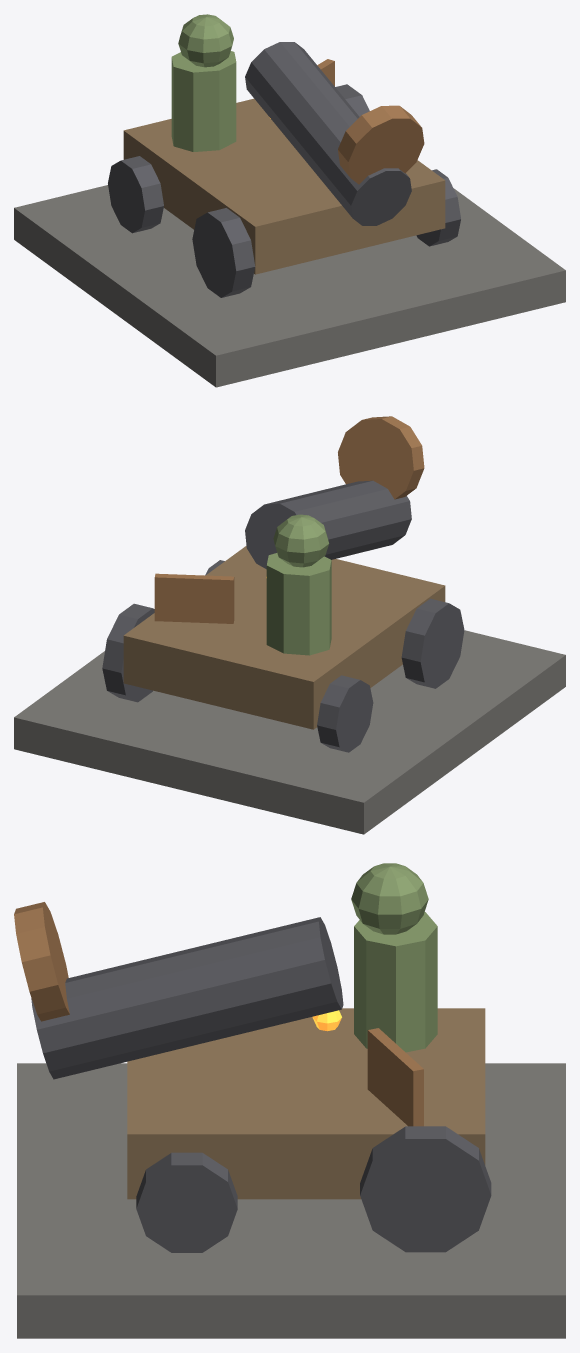
File: orc_junk_cannon.glb
3 renders of one model, top to bottom at view 1: azimuth 30°, elevation 25°; view 2: azimuth 150°, elevation 25°; view 3: azimuth 270°, elevation 25°, orthographic. The views are drawn at different scales.
Parts seen in each view (by area): view 1: Base, TurretMesh, BarrelMesh; view 2: Base, TurretMesh, BarrelMesh; view 3: Base, TurretMesh, BarrelMesh.
Part boxes in pixels (x1,y1,x2,y2): Base: [14, 185, 565, 387]; TurretMesh: [108, 14, 460, 297]; BarrelMesh: [245, 42, 424, 225]; Base: [14, 630, 565, 834]; TurretMesh: [102, 514, 464, 752]; BarrelMesh: [245, 416, 424, 569]; Base: [17, 1063, 565, 1338]; TurretMesh: [127, 863, 491, 1252]; BarrelMesh: [14, 902, 343, 1079].
Bounding box in the file's own units: 1.84 × 1.2 × 1.85.
